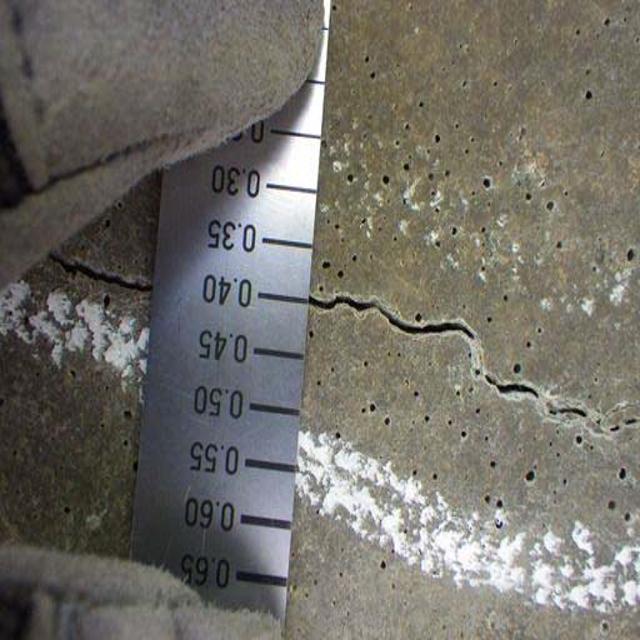crack: (311, 280, 636, 451), (24, 240, 164, 313)
